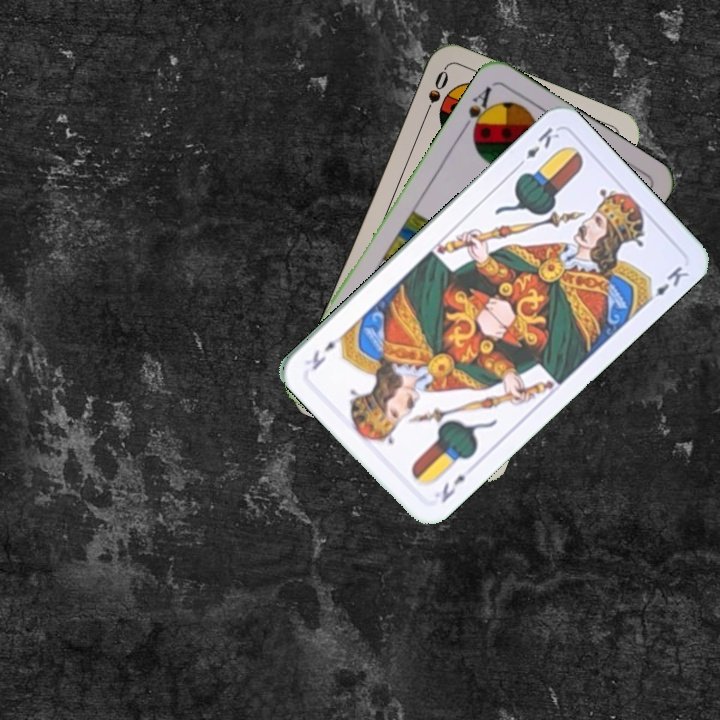EK: (513, 123, 563, 171), (437, 470, 469, 506)
SA: (457, 82, 498, 140)
SO: (419, 66, 451, 122)
